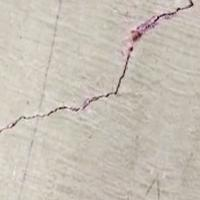crack: (1, 1, 200, 144)
